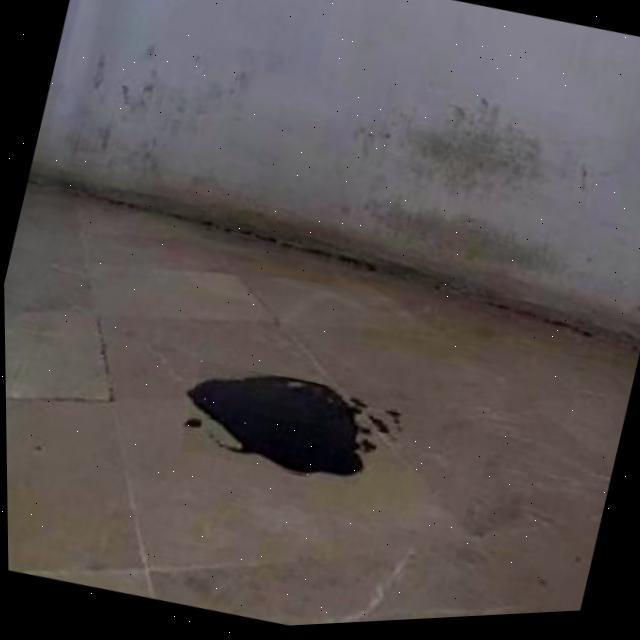spillage: (192, 383, 370, 479)
